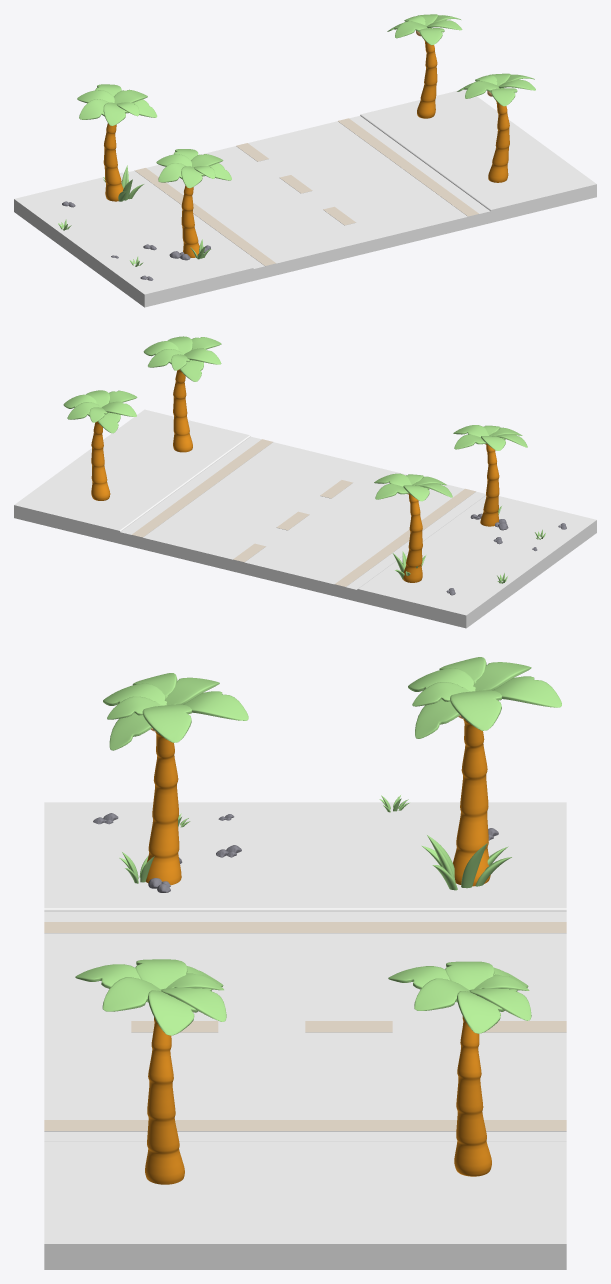
Rendered from pista.glb.
3 renders of one model, top to bottom at view 1: azimuth 30°, elevation 25°; view 2: azimuth 150°, elevation 25°; view 3: azimuth 270°, elevation 25°, orthographic. The views are drawn at different scales.
Visible parts, largest first — view 1: Cube, Cylinder.001, Cylinder.004, Cylinder.003, Cylinder.002; view 2: Cube, Cylinder.003, Cylinder.002, Cylinder.001, Cylinder.004; view 3: Cube, Cylinder.001, Cylinder.003, Cylinder.004, Cylinder.002, Stylized_potted_plant_3.007.
Part boxes in pixels (x1,y1,x2,y2): Cube: (14,89,596,307); Cylinder.001: (77,84,157,201); Cylinder.004: (156,149,231,257); Cylinder.003: (457,73,535,182); Cylinder.002: (387,14,462,118); Cube: (14,409,596,628); Cylinder.003: (143,336,221,452); Cylinder.002: (63,390,137,500); Cylinder.001: (374,473,452,582); Cylinder.004: (453,425,527,526); Cube: (44,802,566,1269); Cylinder.001: (408,657,561,886); Cylinder.003: (75,959,226,1184); Cylinder.004: (103,673,248,885); Cylinder.002: (388,961,531,1176); Stylized_potted_plant_3.007: (421,835,511,890).
Bounding box in the file's own units: 20 × 4.87 × 10.
